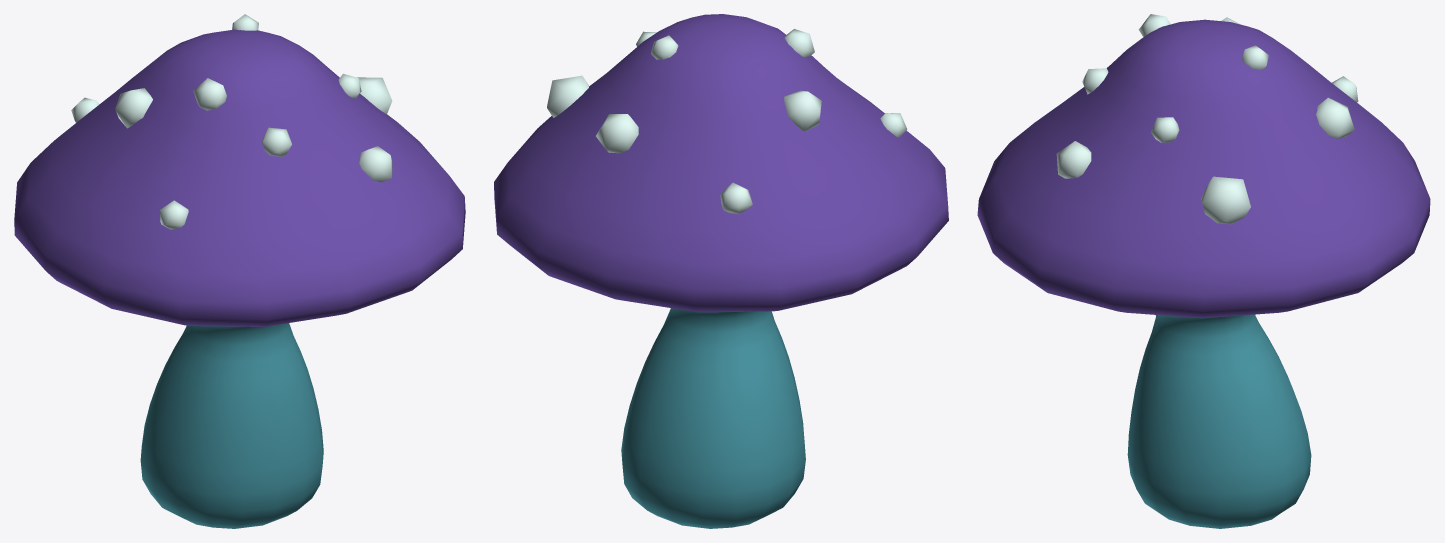
The model's file is Resource_Mushroom.fbx.
3 views of the same model, side by side, from view 1: azimuth 30°, elevation 25°; view 2: azimuth 150°, elevation 25°; view 3: azimuth 270°, elevation 25° (orthographic).
Visible parts, largest first — view 1: Resource_Mushroom; view 2: Resource_Mushroom; view 3: Resource_Mushroom.
Part boxes in pixels (x1,y1,x2,y2): Resource_Mushroom: [14, 14, 465, 528]; Resource_Mushroom: [494, 14, 948, 528]; Resource_Mushroom: [977, 14, 1430, 528].
Bounding box in the file's own units: 0.4201 × 0.4912 × 0.4209.
